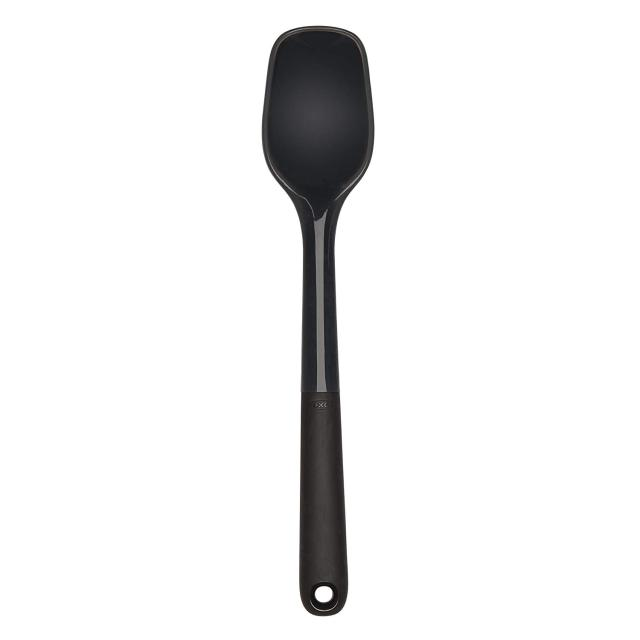spoon: (244, 3, 396, 617)
